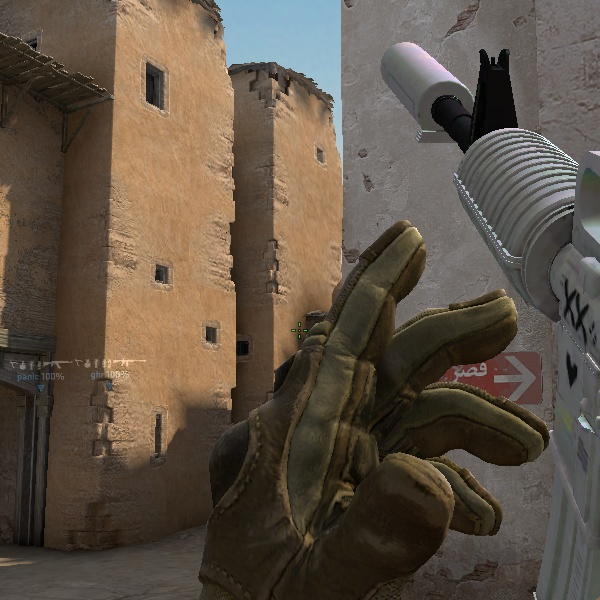ct_body: (227, 140, 578, 600)
